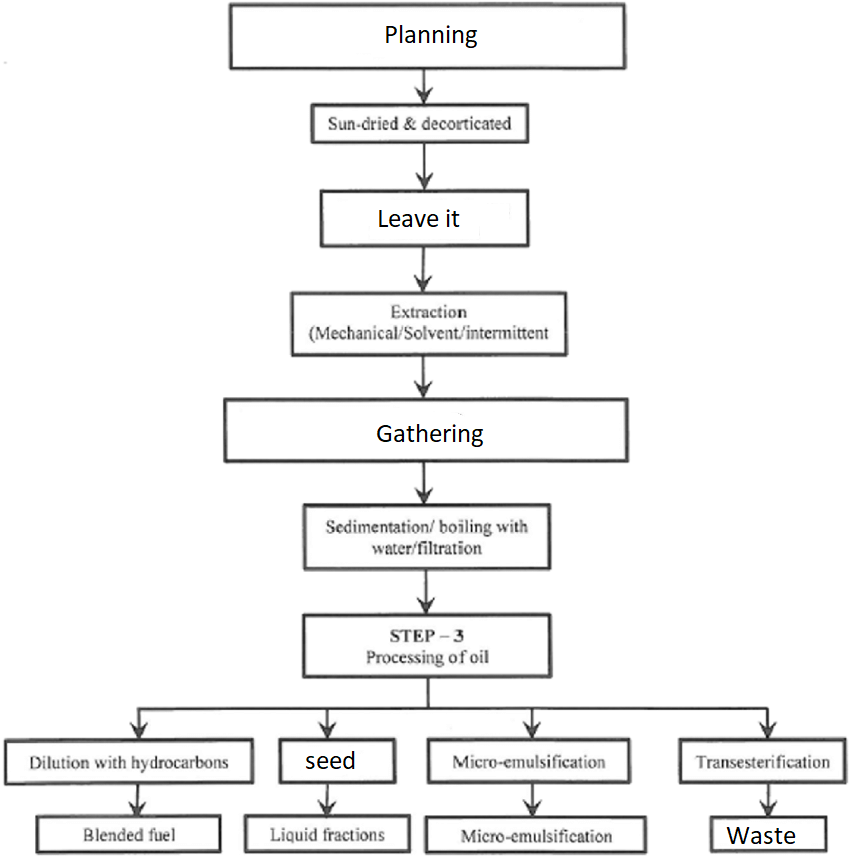arrow: (531, 703, 779, 743), (422, 676, 549, 746), (128, 702, 329, 742), (314, 673, 433, 737), (411, 138, 436, 190), (413, 350, 437, 401), (411, 459, 436, 507), (754, 776, 781, 817), (410, 247, 433, 294), (414, 571, 437, 616), (314, 776, 340, 815), (127, 779, 152, 819), (411, 68, 436, 107), (522, 777, 545, 816)
process: (218, 393, 633, 466), (224, 2, 631, 75), (288, 288, 574, 359), (298, 498, 558, 575), (296, 610, 558, 681), (315, 185, 535, 251), (1, 736, 259, 786), (307, 99, 533, 149), (422, 733, 635, 786), (420, 811, 654, 857), (674, 736, 848, 788), (32, 810, 222, 857), (240, 810, 415, 857), (274, 733, 401, 786), (705, 812, 832, 857)
text: (306, 303, 554, 343), (322, 514, 529, 558), (366, 627, 492, 667), (23, 751, 232, 773), (324, 114, 518, 133), (372, 420, 488, 451), (450, 751, 611, 773), (459, 824, 615, 846), (383, 21, 481, 50), (694, 753, 835, 773), (267, 824, 392, 843), (80, 824, 180, 846), (375, 206, 465, 230), (723, 823, 798, 846), (303, 753, 361, 772)
